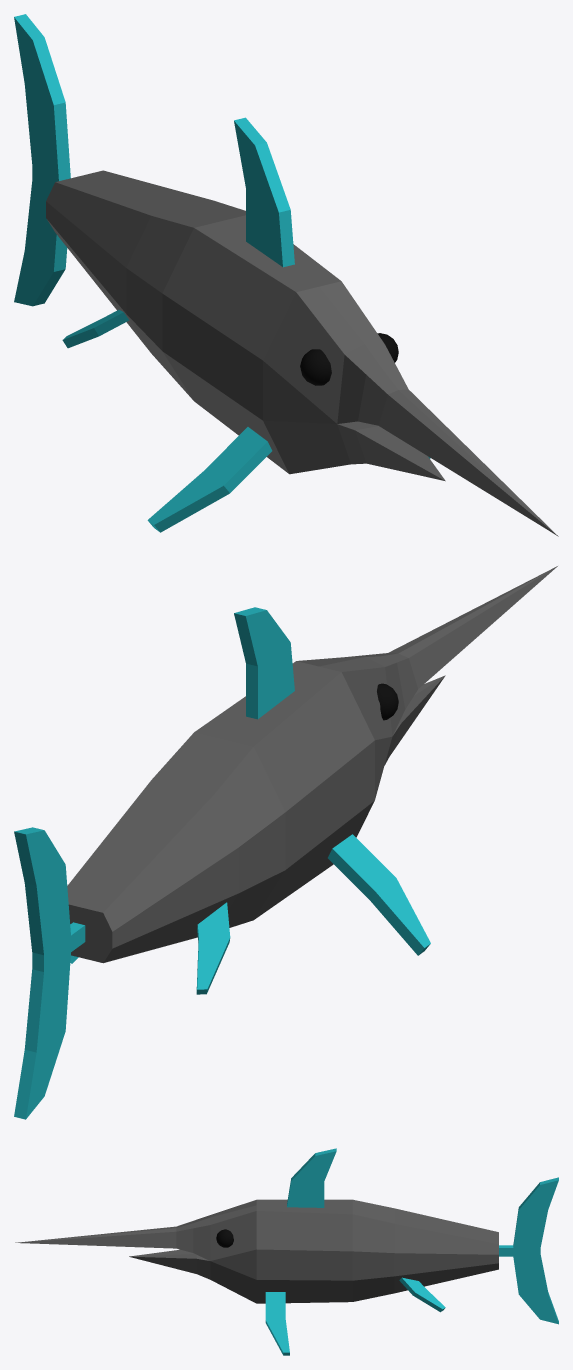
The model's file is swordFish.fbx.
3 renders of one model, top to bottom at view 1: azimuth 30°, elevation 25°; view 2: azimuth 150°, elevation 25°; view 3: azimuth 270°, elevation 25°, orthographic. The views are drawn at different scales.
Parts seen in each view (by area): view 1: swordFish; view 2: swordFish; view 3: swordFish.
Boxes of the visible parts, x1,y1,x2,y2 form: swordFish: (14, 14, 558, 536); swordFish: (14, 566, 557, 1119); swordFish: (15, 1148, 558, 1355).
Size of the model in its own units: 80.05 by 94.67 by 270.
